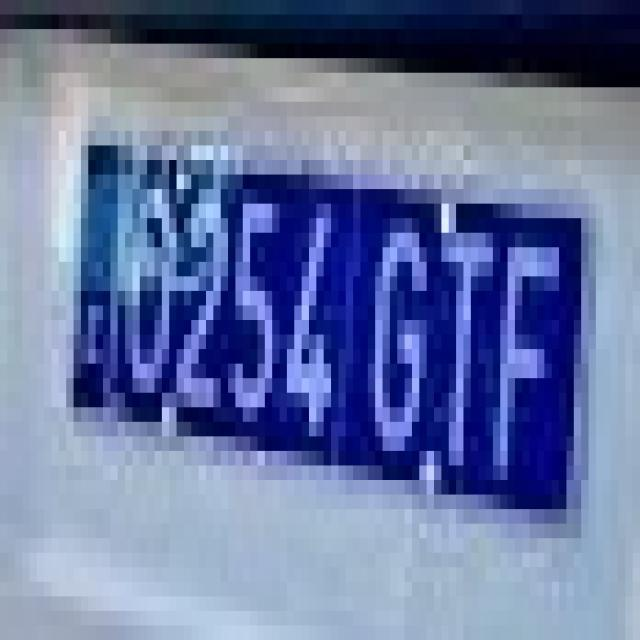LicensePlate: (68, 125, 591, 549)
